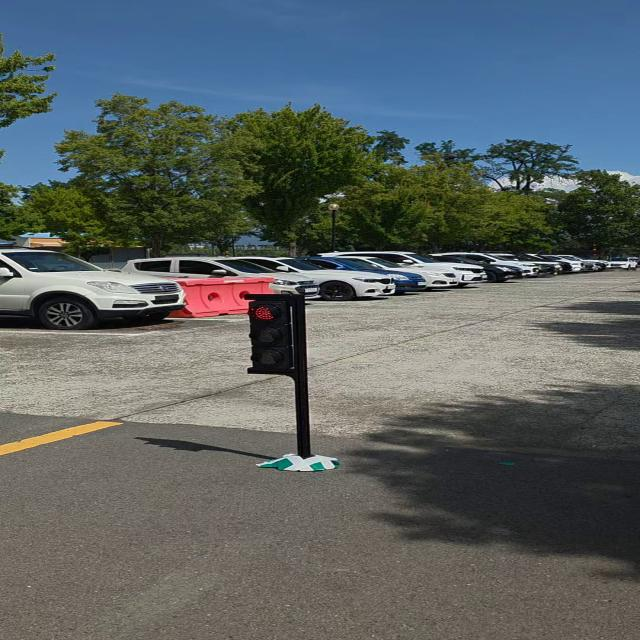red: (245, 299, 299, 379)
